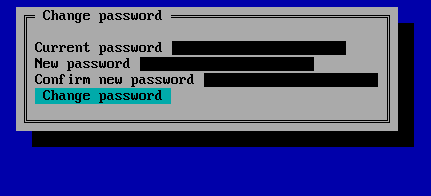
Test: mismatched new passwords are refused before the server
The image size is (431, 196).
Type "old password!" into the password field named "current" at (259, 48), box [171,40,347,56]
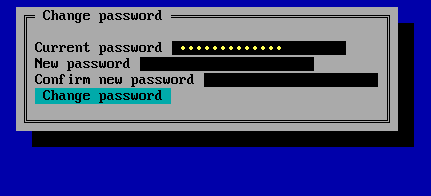
Type "new password!!" into the password field named "new" at (227, 64), box [139,56,315,72]
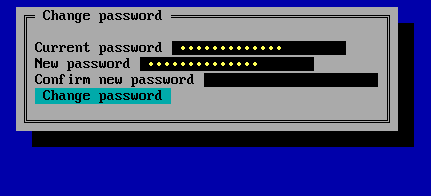
Type "different!!!!" into the password field named "confirm" at (291, 80), box [203,72,379,88]
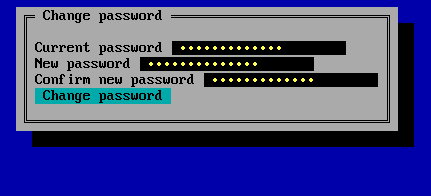
Submit the form, box [24,8,390,123]
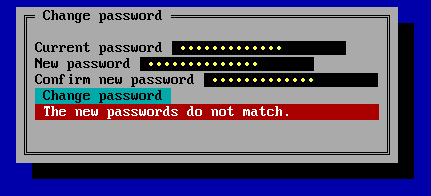
Check: the message "The new passwords do not match." is shown, box [35,104,379,120]
